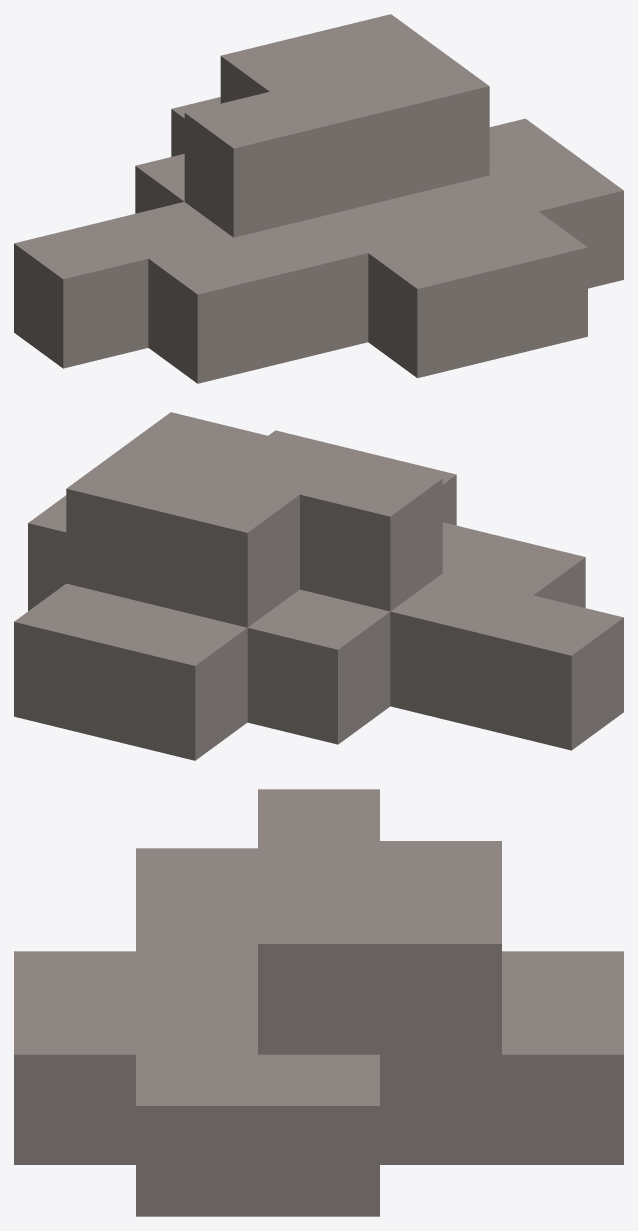
Rendered from Stone_Small.obj.
3 renders of one model, top to bottom at view 1: azimuth 30°, elevation 25°; view 2: azimuth 150°, elevation 25°; view 3: azimuth 270°, elevation 25°, orthographic. The views are drawn at different scales.
Bounding box in the file's own units: 0.6 × 0.2 × 0.5.
Materials: 1 (1 with a texture image).
